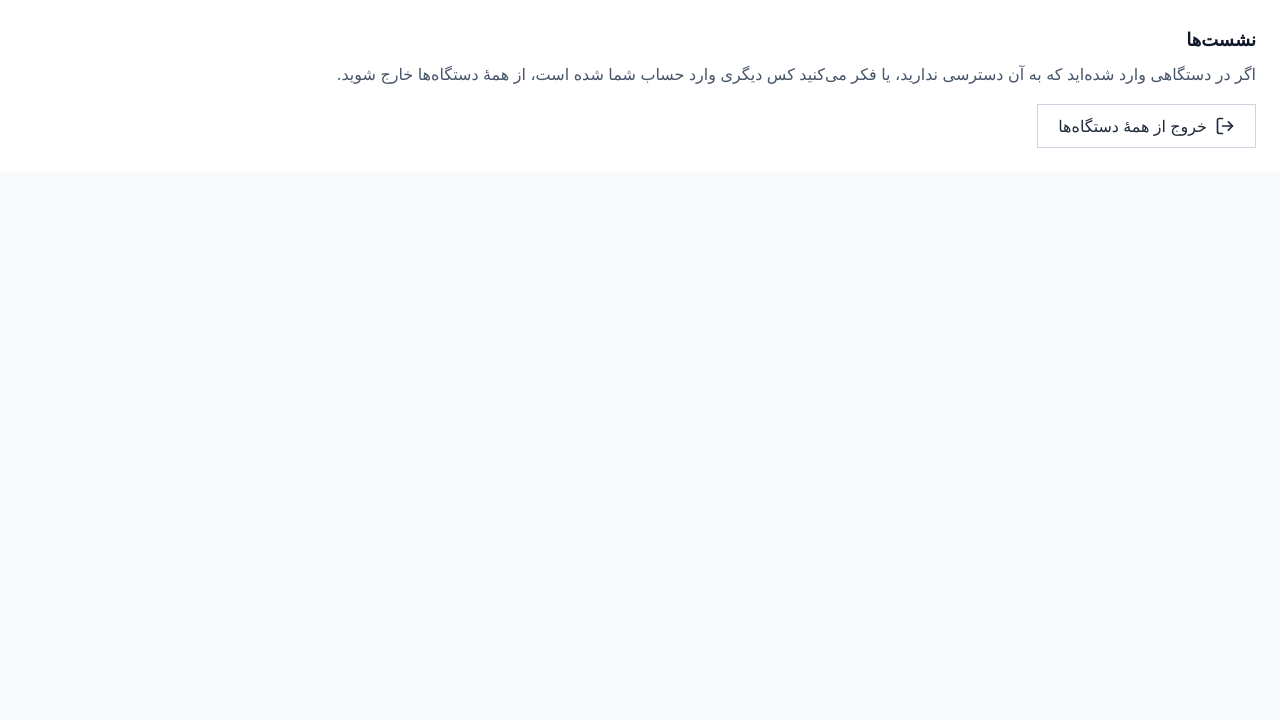
Test: SessionsSection › confirmed: logout-all, then home with a toast
Later steps or results of the test are not shown.
Step 1. Click the button "خروج از همهٔ دستگاه‌ها" → point(1147, 126), box [1037,104,1256,148]
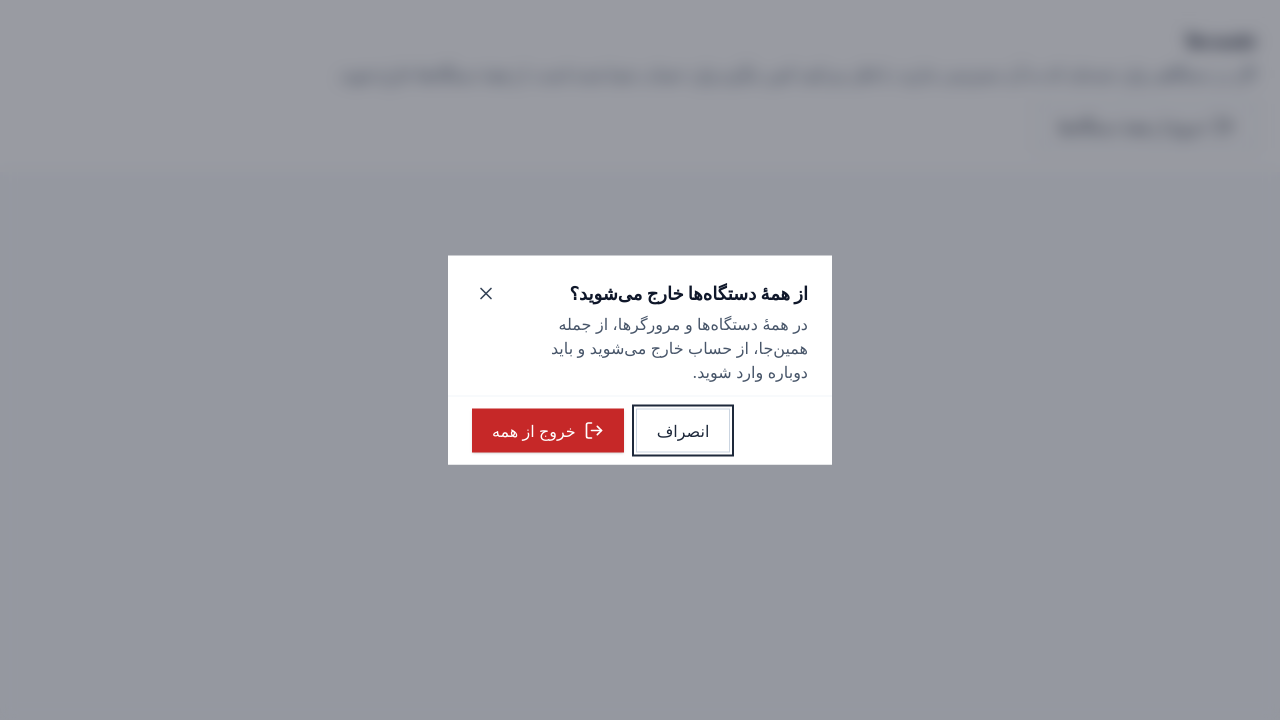
Result: the dialog is shown at [448,256,832,464]
